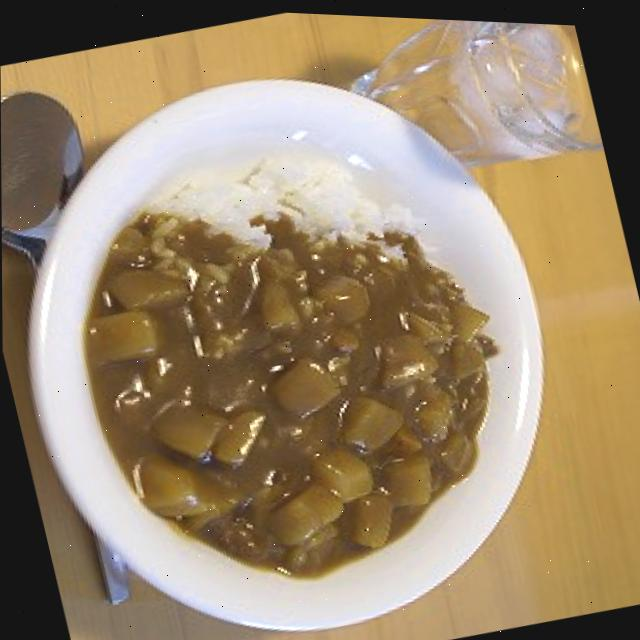牛肉菜式: (0, 13, 610, 640)
